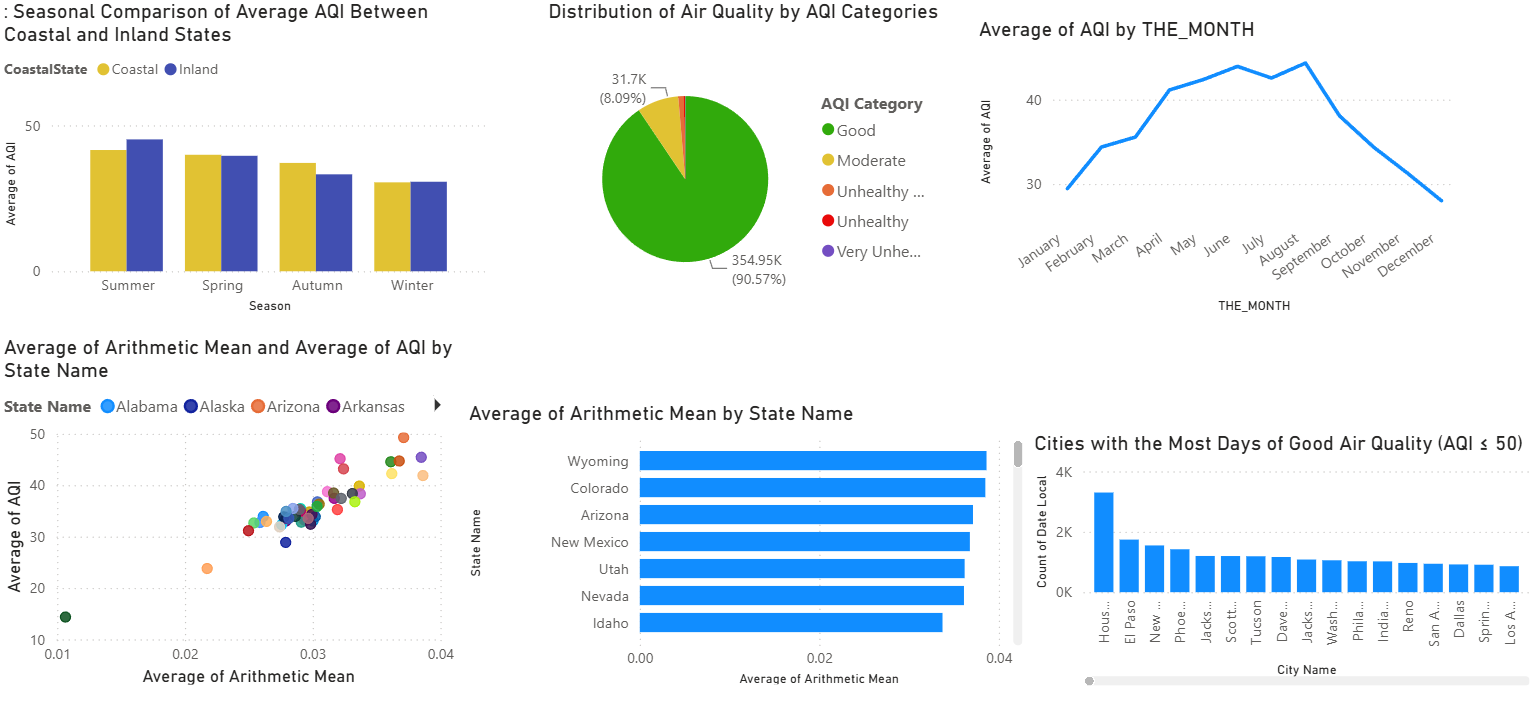

The page's visual inventory and layout, read from the dashboard file:
{"tool":"powerbi","page":{"name":"Page 1","canvas":[1280,720],"ordinal":0},"visuals":[{"type":"scatterChart","fields":{"X":["Avg(daily_ozone_2020.Arithmetic Mean)"],"Y":["Avg(daily_ozone_2020.AQI)"],"Series":["daily_ozone_2020.State Name"]},"box":[0,280.1,385.4,296.3],"z":1000},{"type":"clusteredBarChart","fields":{"Category":["daily_ozone_2020.State Name"],"Y":["Avg(daily_ozone_2020.Arithmetic Mean)"]},"box":[387,335.2,471.2,241.3],"z":2000},{"type":"pieChart","title":"Distribution of Air Quality by AQI Categories","fields":{"Category":["daily_ozone_2020.AQI Category"],"Y":["CountNonNull(daily_ozone_2020.Date Local)"]},"box":[453.4,0,335.2,280.1],"z":3000},{"type":"clusteredColumnChart","title":":      Seasonal Comparison of Average AQI Between Coastal and Inland States","fields":{"Category":["daily_ozone_2020.Season"],"Y":["Avg(daily_ozone_2020.AQI)"],"Series":["daily_ozone_2020.CoastalState"]},"box":[0,0,412.9,265.6],"z":3001},{"type":"lineChart","fields":{"Y":["Avg(daily_ozone_2020.AQI)"],"Category":["daily_ozone_2020.THE_MONTH"]},"box":[812.9,14.6,406.4,251],"z":3002},{"type":"columnChart","title":"Cities with the Most Days of Good Air Quality (AQI ≤ 50)","fields":{"Category":["daily_ozone_2020.City Name"],"Y":["CountNonNull(daily_ozone_2020.Date Local)"]},"box":[858.2,359.5,422.6,217],"z":3003}]}

Visuals, with their boxes on the page's 1280x720 design canvas (x1, y1, x2, y2). These are canvas units, not pixel positions in the 1534x718 screenshot, which may show the page scaled, cropped or inside an application window:
scatterChart - Avg(daily_ozone_2020.Arithmetic Mean) x Avg(daily_ozone_2020.AQI): pyautogui.locateOnScreen(0, 280, 385, 576)
clusteredBarChart - daily_ozone_2020.State Name x Avg(daily_ozone_2020.Arithmetic Mean): pyautogui.locateOnScreen(387, 335, 858, 576)
"Distribution of Air Quality by AQI Categories" pieChart: pyautogui.locateOnScreen(453, 0, 789, 280)
":      Seasonal Comparison of Average AQI Between Coastal and Inland States" clusteredColumnChart: pyautogui.locateOnScreen(0, 0, 413, 266)
lineChart - Avg(daily_ozone_2020.AQI) x daily_ozone_2020.THE_MONTH: pyautogui.locateOnScreen(813, 15, 1219, 266)
"Cities with the Most Days of Good Air Quality (AQI ≤ 50)" columnChart: pyautogui.locateOnScreen(858, 360, 1281, 576)
